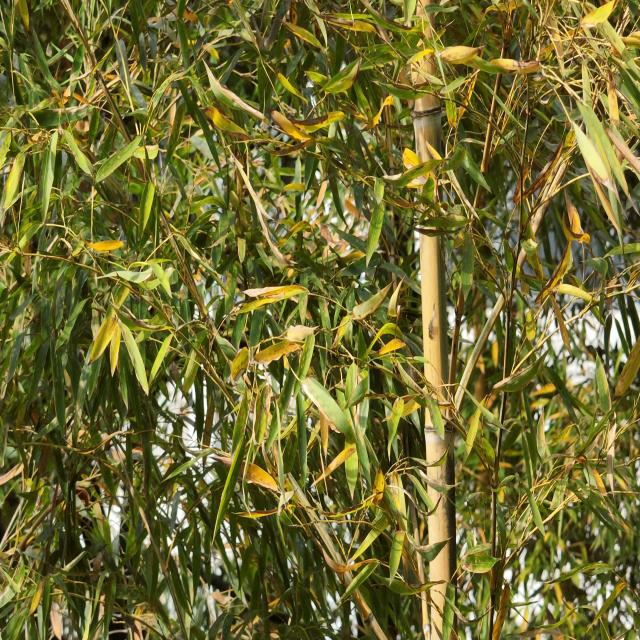Bamboo-shoots: (408, 0, 458, 640)
